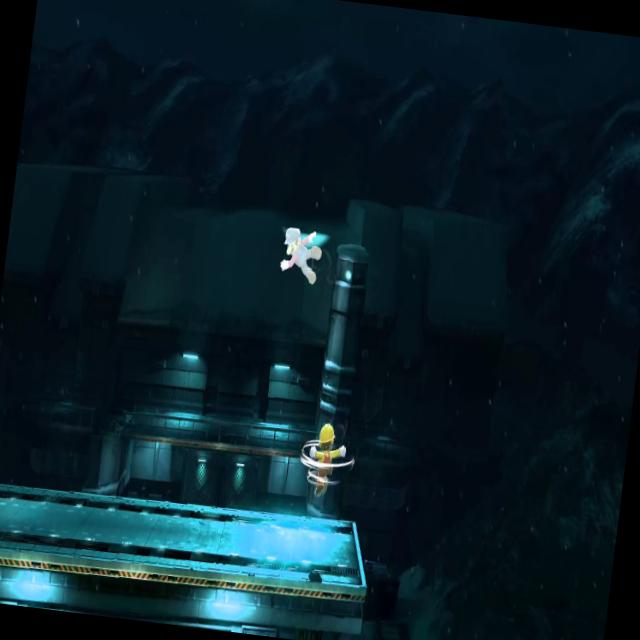Mario-Down Air: (302, 414, 352, 504)
Mario-mad: (273, 216, 328, 292)
